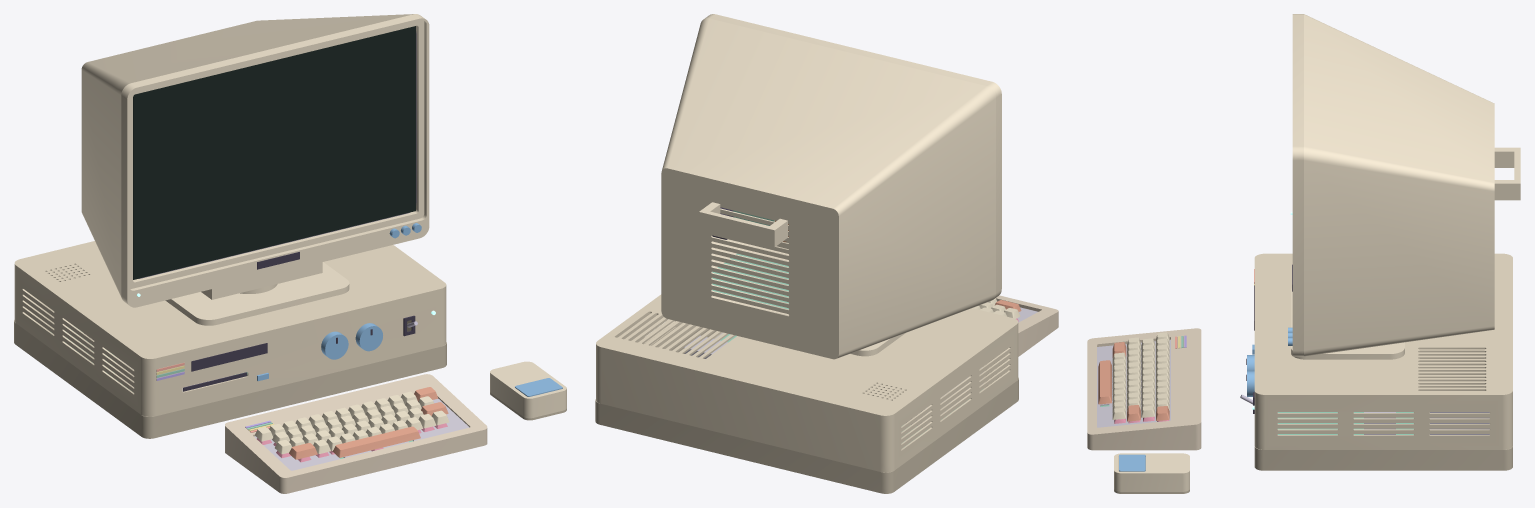
File: pastella84.glb
The picture shows the model from 3 angles, left to right: view 1: azimuth 30°, elevation 25°; view 2: azimuth 150°, elevation 25°; view 3: azimuth 270°, elevation 25°; orthographic projection. The views are drawn at different scales.
Visible parts, largest first — view 1: crt_screen, lid, bezel, rear_shell, keyboard_case, tray, stand_base, mouse_shell, tilt_cradle, kb_plate, key_space_cap, brand_badge (+2 smaller); view 2: rear_shell, lid, tray, bezel, carry_handle, keyboard_case, chassis_board; view 3: rear_shell, lid, keyboard_case, tray, bezel, mouse_shell, kb_plate, carry_handle, stand_base, mainboard, key_space_cap, mouse_button.
Part boxes in pixels (left/top/right/bottom): crt_screen: left=133, top=26, right=415, bottom=279; lid: left=14, top=241, right=446, bottom=416; bezel: left=121, top=14, right=429, bottom=307; rear_shell: left=81, top=14, right=413, bottom=297; keyboard_case: left=225, top=374, right=487, bottom=493; tray: left=14, top=314, right=446, bottom=438; stand_base: left=165, top=262, right=349, bottom=325; mouse_shell: left=490, top=361, right=566, bottom=418; tilt_cradle: left=201, top=262, right=322, bottom=299; kb_plate: left=254, top=398, right=469, bottom=470; key_space_cap: left=332, top=426, right=420, bottom=457; brand_badge: left=191, top=343, right=267, bottom=371; rear_shell: left=661, top=18, right=995, bottom=359; lid: left=596, top=294, right=1018, bottom=472; tray: left=595, top=327, right=1018, bottom=493; bezel: left=705, top=14, right=1001, bottom=298; carry_handle: left=699, top=202, right=787, bottom=247; keyboard_case: left=995, top=295, right=1058, bottom=356; chassis_board: left=712, top=253, right=788, bottom=309; rear_shell: left=1304, top=14, right=1494, bottom=356; lid: left=1254, top=253, right=1512, bottom=449; keyboard_case: left=1087, top=328, right=1201, bottom=450; tray: left=1254, top=446, right=1512, bottom=470; bezel: left=1292, top=14, right=1303, bottom=356; mouse_shell: left=1114, top=453, right=1189, bottom=491; kb_plate: left=1097, top=340, right=1170, bottom=427; carry_handle: left=1494, top=147, right=1520, bottom=200; stand_base: left=1291, top=288, right=1404, bottom=359; mainboard: left=1278, top=412, right=1413, bottom=434; key_space_cap: left=1098, top=360, right=1111, bottom=404; mouse_button: left=1119, top=454, right=1145, bottom=471.
Bounding box in the file's own units: 0.506 × 0.4668 × 0.57.
